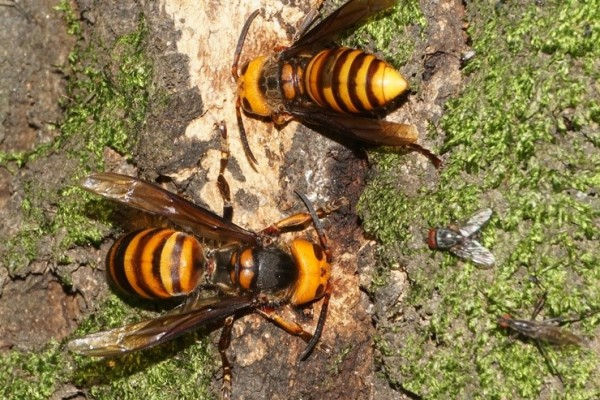asian_giant_hornet: (98, 223, 338, 320), (224, 45, 410, 125)
